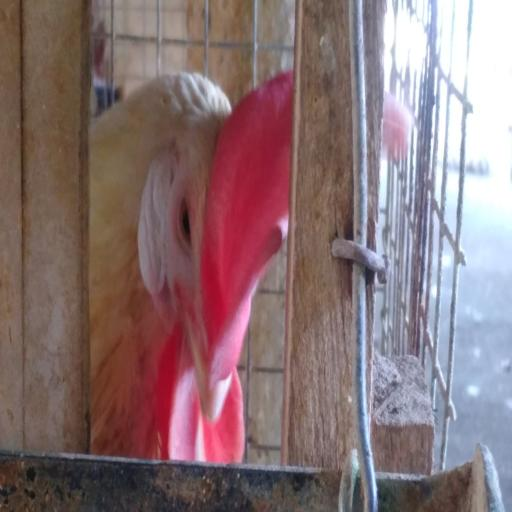healthy: (145, 124, 255, 384)
